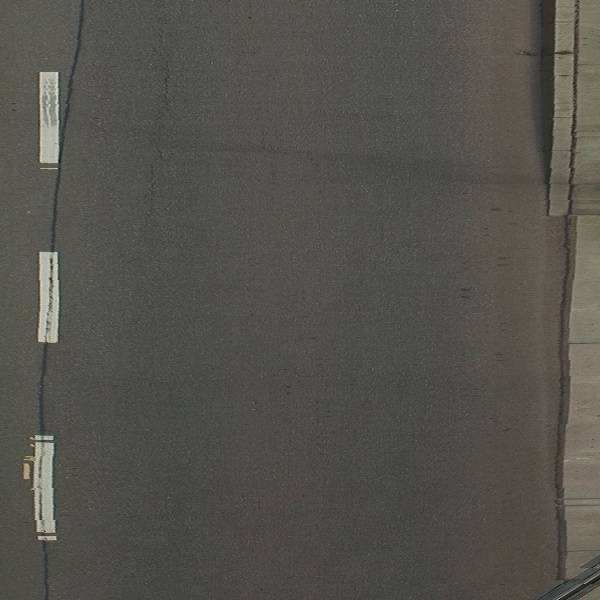road_damage: (31, 2, 89, 430)
